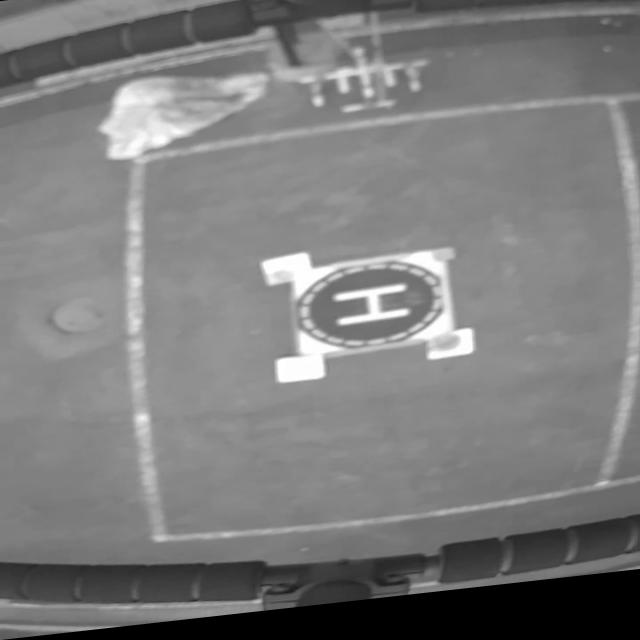Helipad: (332, 290, 410, 333)
